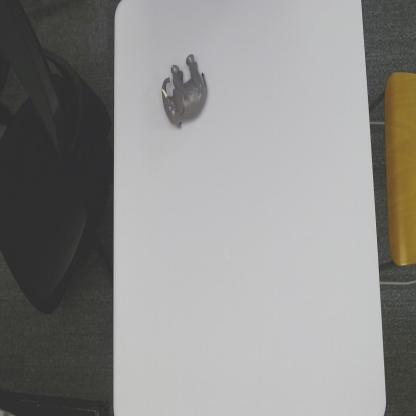Elephant: (160, 52, 209, 130)
